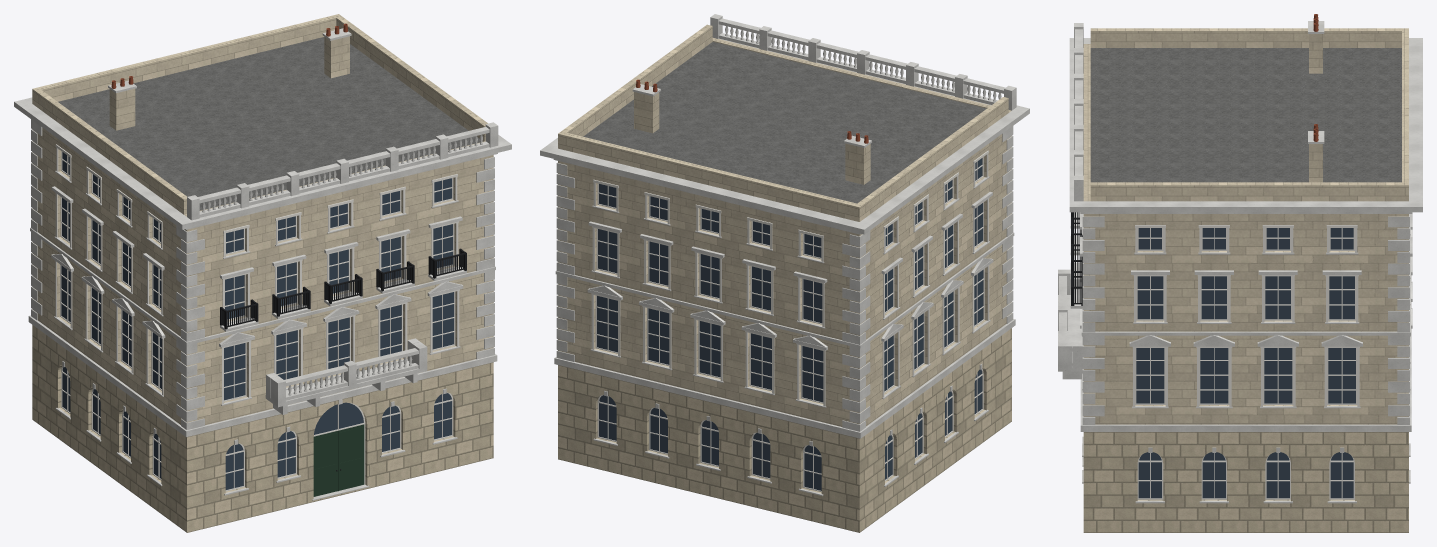
Rendered from town-mansion.glb.
The picture shows the model from 3 angles, left to right: view 1: azimuth 30°, elevation 25°; view 2: azimuth 150°, elevation 25°; view 3: azimuth 270°, elevation 25°; orthographic projection. The views are drawn at different scales.
Parts seen in each view (by area): view 1: Town_Mansion; view 2: Town_Mansion; view 3: Town_Mansion.
Boxes of the visible parts, x1,y1,x2,y2 form: Town_Mansion: (14,14,511,532); Town_Mansion: (540,14,1029,532); Town_Mansion: (1058,14,1422,532).
Bounding box in the file's own units: 17.2 × 18.04 × 15.7.
Materials: 10 (5 with a texture image).
